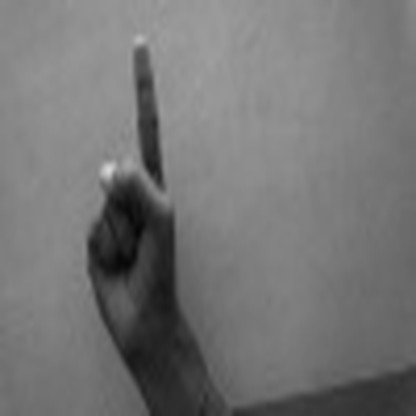d: (63, 33, 190, 361)
